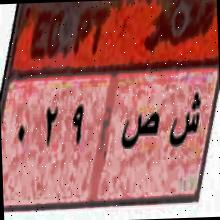0: (15, 116, 27, 152)
2: (40, 98, 62, 151)
9: (71, 100, 86, 150)
saad: (120, 106, 161, 162)
sheen: (166, 90, 204, 155)
